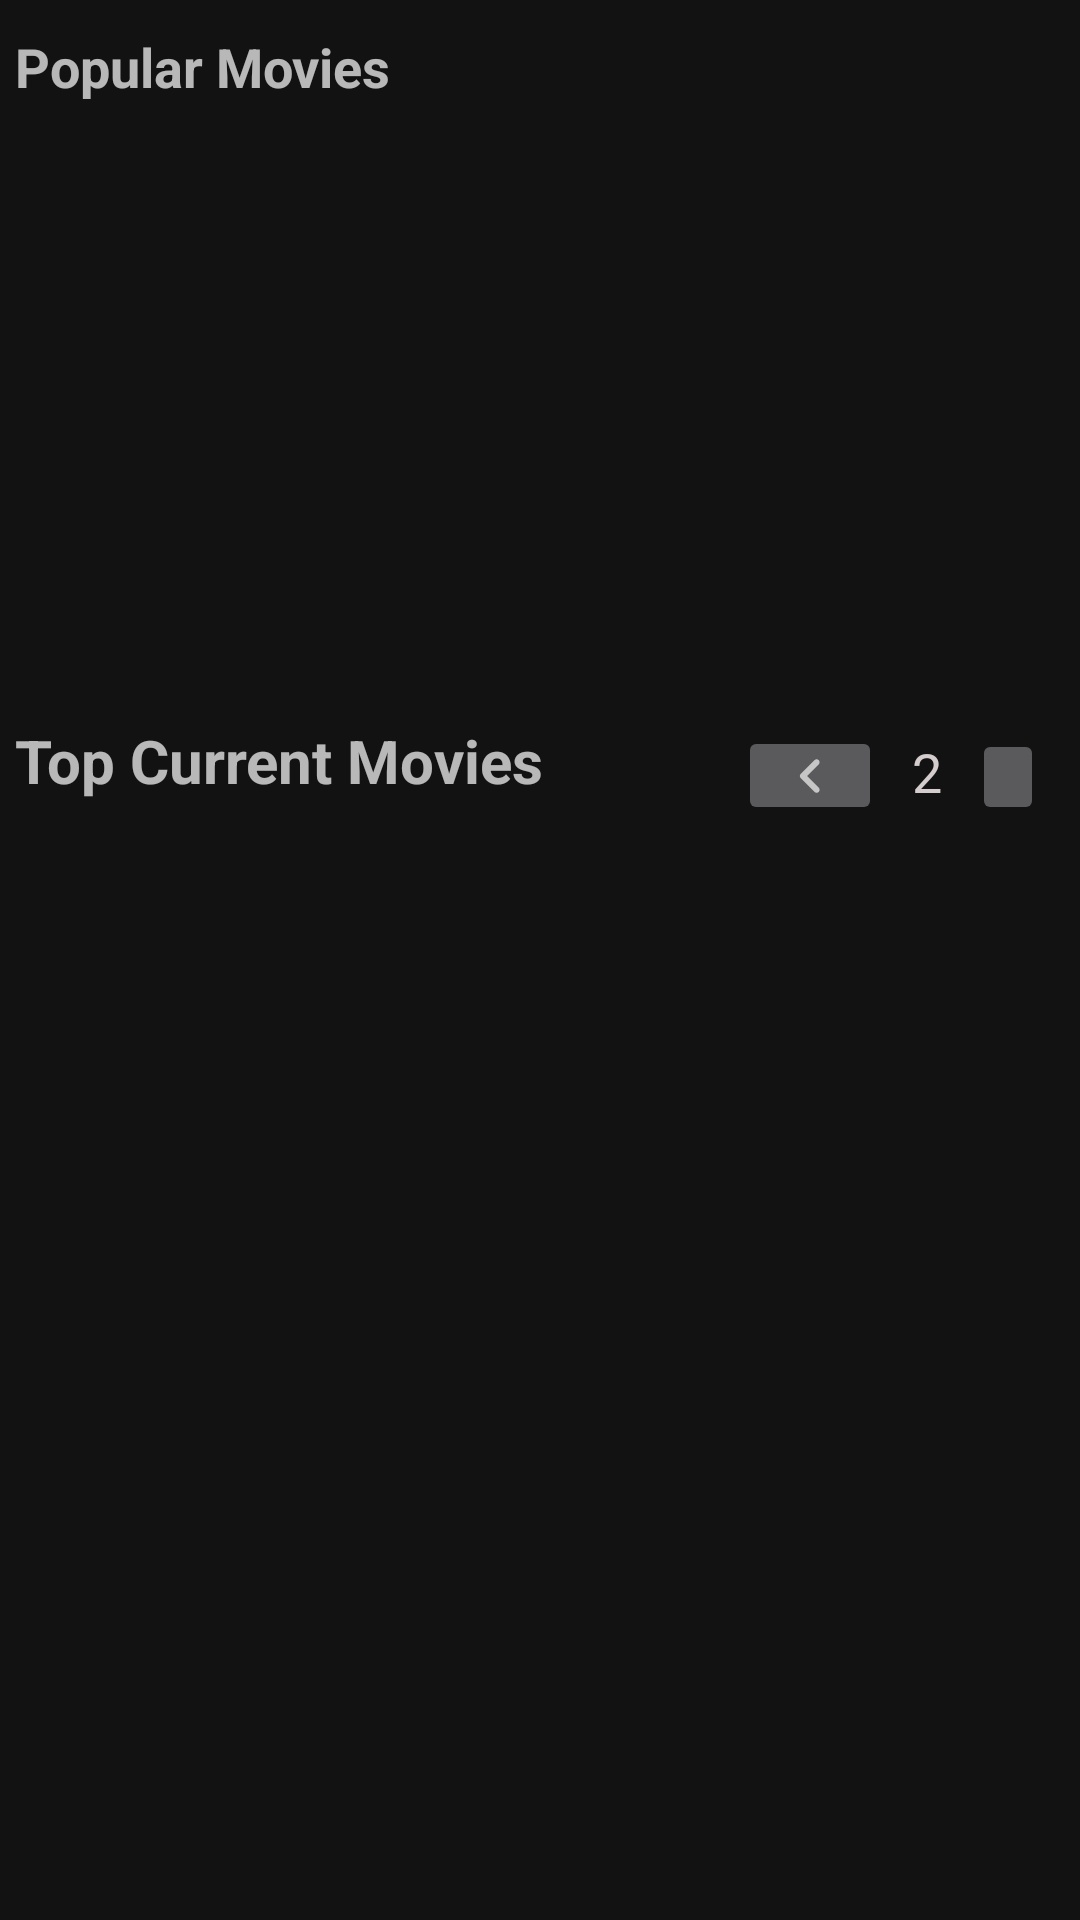

Screen size 1080w x 1920h. Icon name, then its center in pixels as [x,y]:
navigate before: [810,775]
